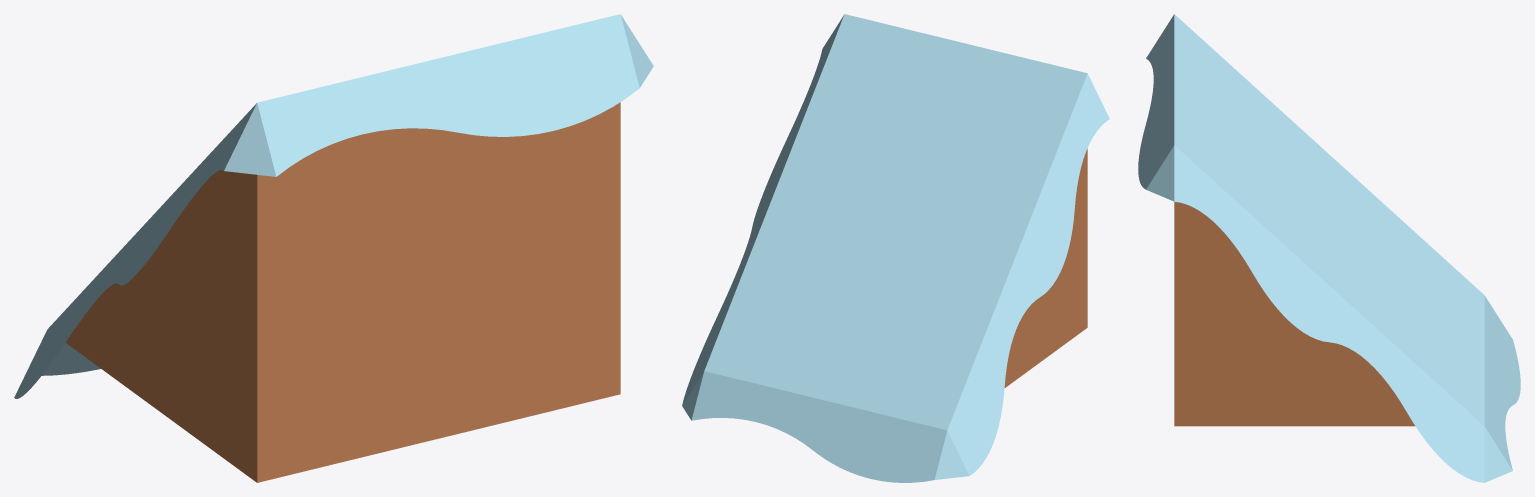
File: blockSnowSlope.glb
3 views of the same model, side by side, from view 1: azimuth 30°, elevation 25°; view 2: azimuth 150°, elevation 25°; view 3: azimuth 270°, elevation 25° (orthographic). The views are drawn at different scales.
Parts seen in each view (by area): view 1: blockSnowSlope; view 2: blockSnowSlope; view 3: blockSnowSlope.
Boxes of the visible parts, <box> form: blockSnowSlope: <box>14,14,653,482</box>; blockSnowSlope: <box>682,14,1109,482</box>; blockSnowSlope: <box>1138,14,1520,482</box>.
Bounding box in the file's own units: 1.23 × 1.2 × 1.23.
